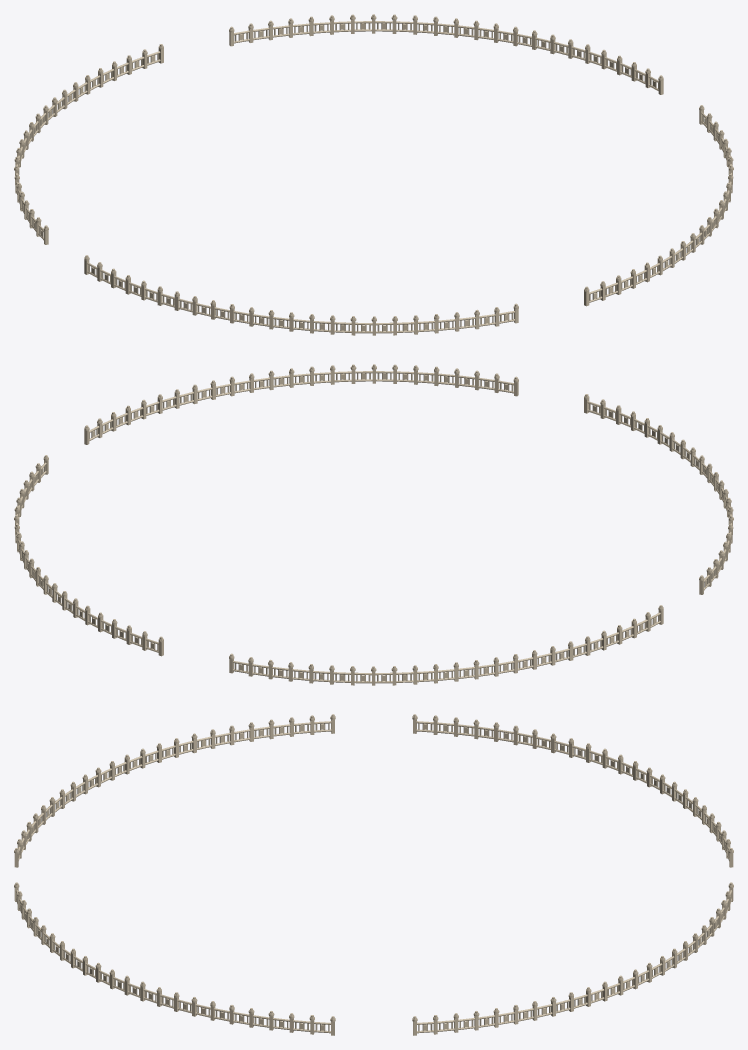
File: SM_11_Rail_1.fbx
3 renders of one model, top to bottom at view 1: azimuth 30°, elevation 25°; view 2: azimuth 150°, elevation 25°; view 3: azimuth 270°, elevation 25°, orthographic.
Parts seen in each view (by area): view 1: Rail_1; view 2: Rail_1; view 3: Rail_1.
Part boxes in pixels (x1,y1,x2,y2): Rail_1: [14, 14, 733, 335]; Rail_1: [14, 364, 733, 685]; Rail_1: [14, 714, 733, 1035].
Bounding box in the file's own units: 5546 × 5546 × 155.
